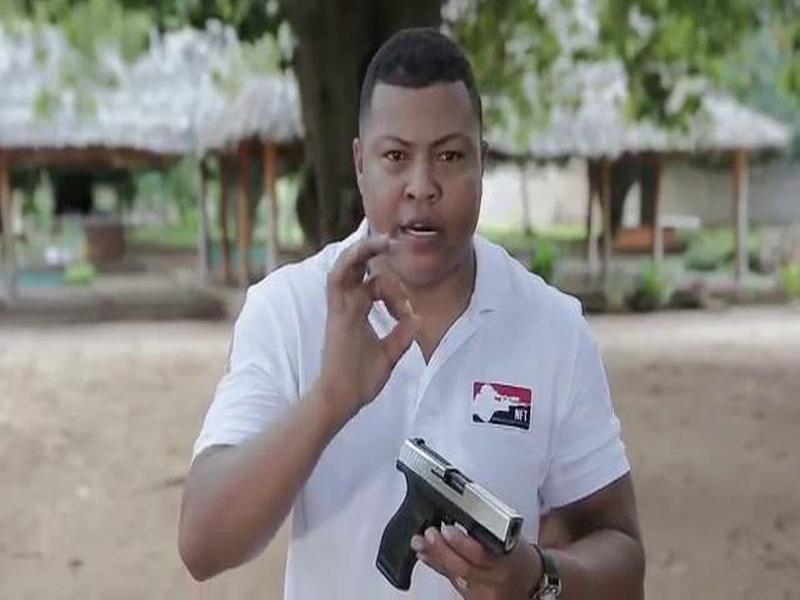Pistola: (366, 429, 530, 594)
